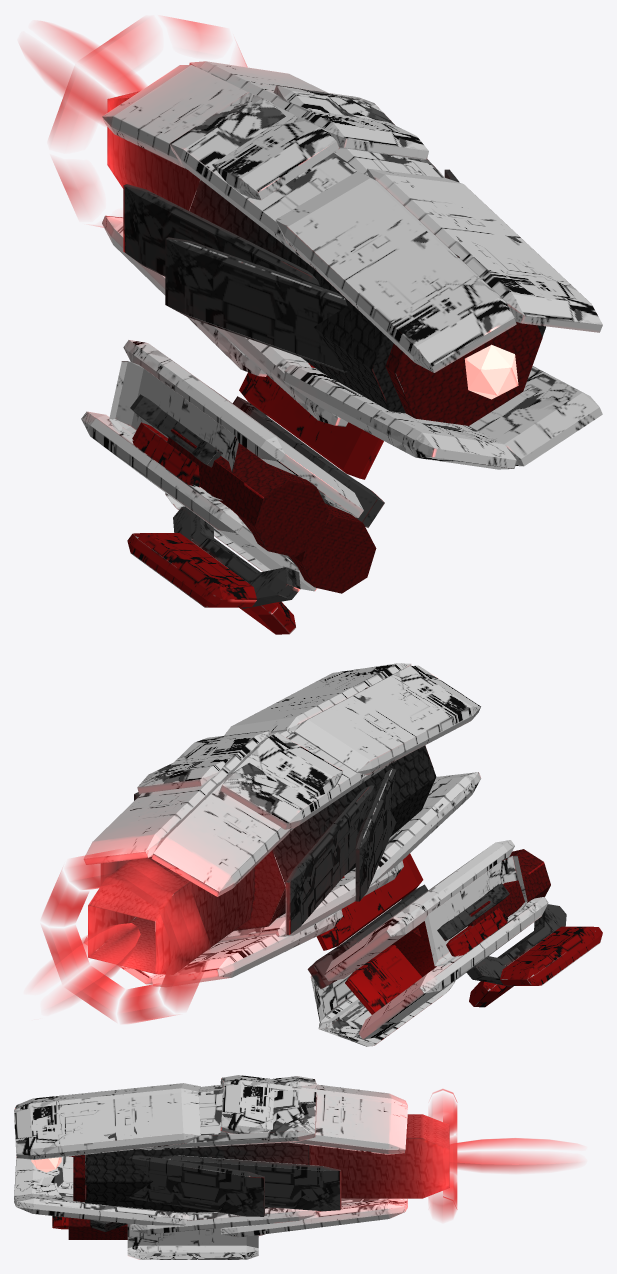
Rendered from zalek_drone_scout.gltf.
3 renders of one model, top to bottom at view 1: azimuth 30°, elevation 25°; view 2: azimuth 150°, elevation 25°; view 3: azimuth 270°, elevation 25°, orthographic. The views are drawn at different scales.
Parts seen in each view (by area): view 1: base_glow, glow_torus; view 2: base_glow, glow_torus; view 3: base_glow, glow_torus.
Part boxes in pixels (x1,y1,x2,y2): base_glow: (81,61,602,634); glow_torus: (20,16,247,227); base_glow: (84,663,602,1046); glow_torus: (33,849,208,1023); base_glow: (14,1075,449,1259); glow_torus: (428,1089,578,1220).
Bounding box in the file's own units: 4.18 × 3.36 × 8.7.
Materials: 2 (2 with a texture image).
